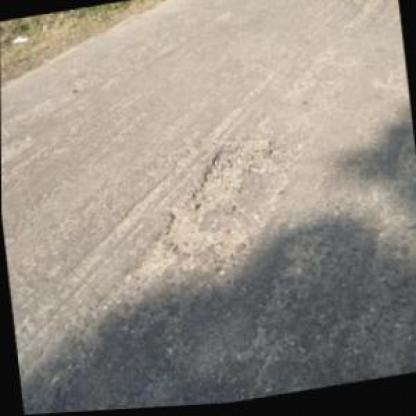pothole: (148, 133, 284, 272)
